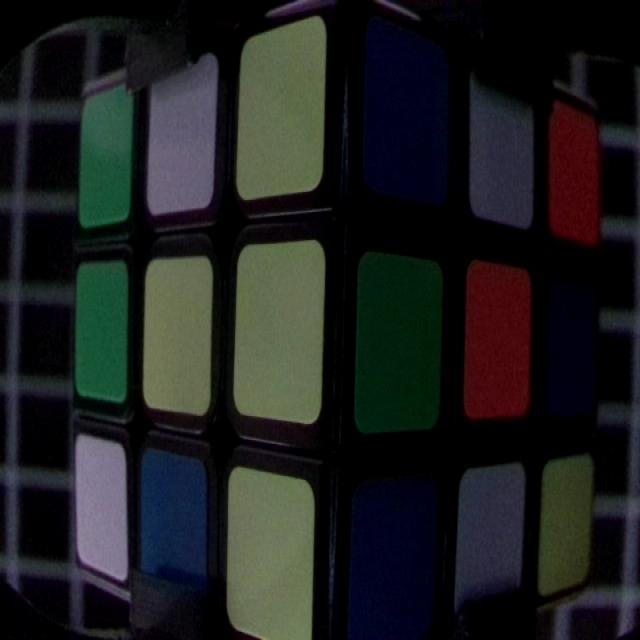b: (370, 33, 454, 189), (365, 478, 441, 637), (145, 456, 210, 605), (548, 286, 598, 410)
g: (359, 255, 442, 422), (77, 92, 134, 217), (74, 264, 126, 393)
o: (468, 266, 528, 411), (550, 108, 598, 236)
w: (454, 463, 527, 622), (470, 62, 537, 225), (151, 54, 217, 204), (77, 437, 129, 580)
y: (235, 17, 325, 192), (229, 467, 314, 633), (242, 243, 324, 414), (145, 257, 212, 401), (544, 459, 593, 575)
